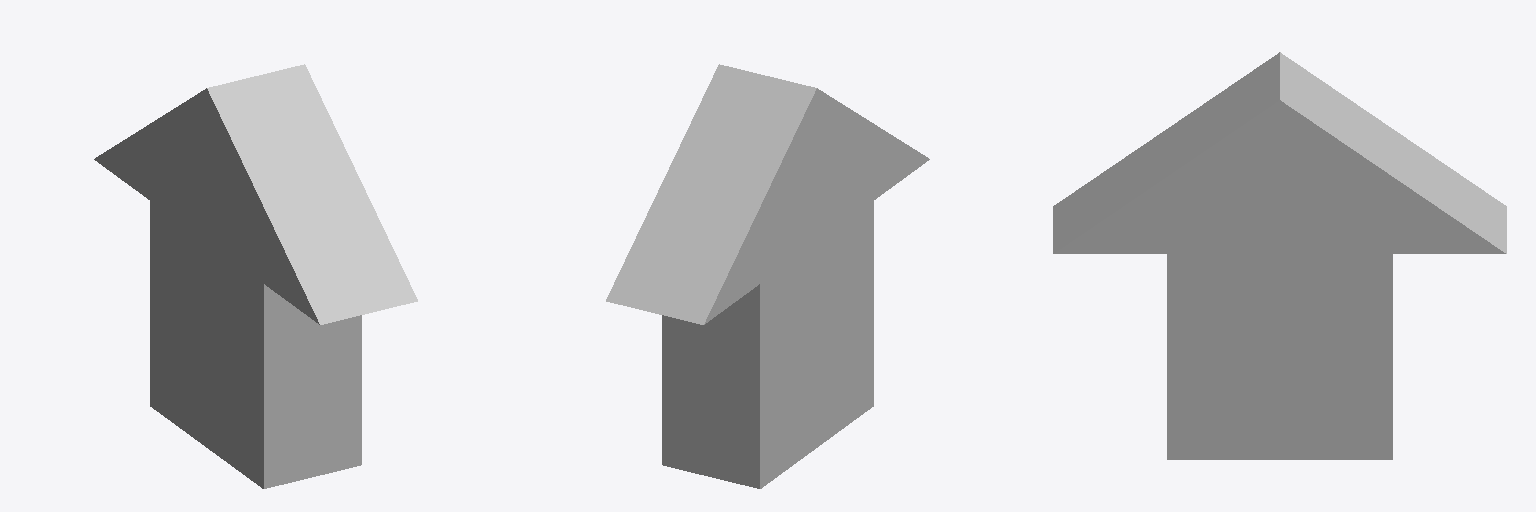
File: arrow.obj
3 views of the same model, side by side, from view 1: azimuth 30°, elevation 25°; view 2: azimuth 150°, elevation 25°; view 3: azimuth 270°, elevation 25° (orthographic).
Visible parts, largest first — view 1: Cube; view 2: Cube; view 3: Cube.
Boxes of the visible parts, x1=… form: Cube: x1=94, y1=64, x2=417, y2=488; Cube: x1=606, y1=64, x2=929, y2=488; Cube: x1=1053, y1=52, x2=1506, y2=459.
Bounding box in the file's own units: 1 × 3.5 × 4.